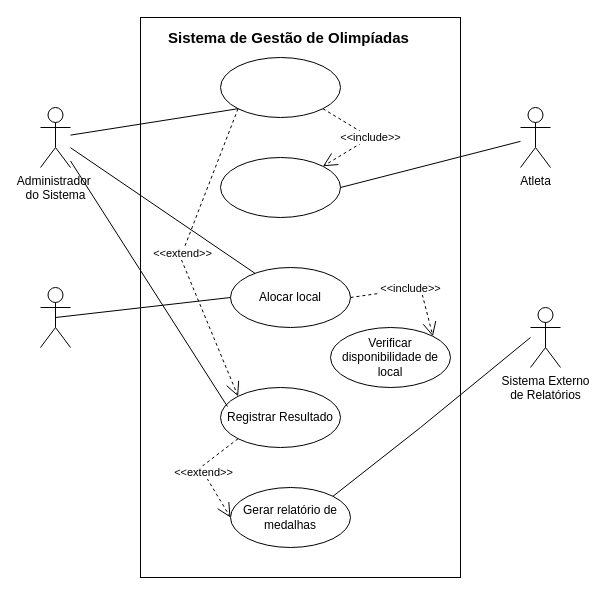
This 607x595 diagram has some shape labels left out. Here are the shapes that lost their labels. From the top down, the centre of each, then its label:
the point at 280,87: Cadastrar competição
the point at 280,187: Inscrever atleta
the point at 55,317: Organizador de Eventos
